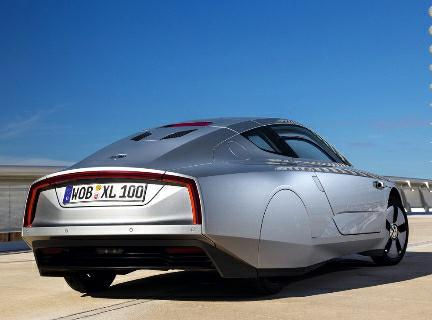大众-XL1: (15, 108, 419, 297)
